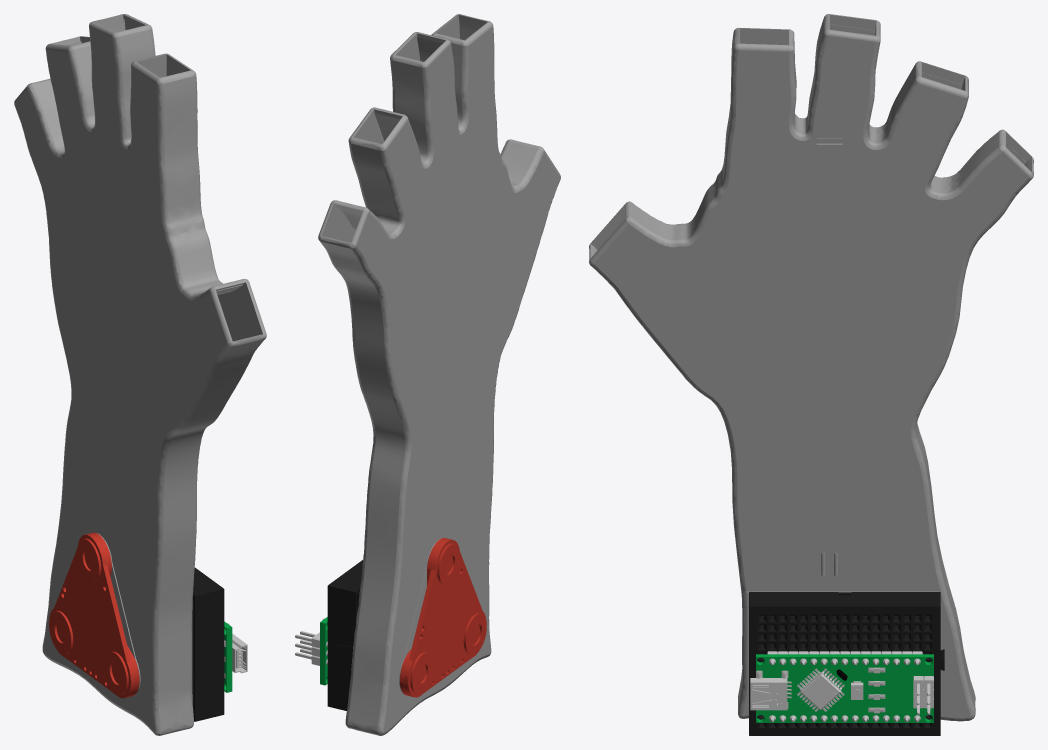
The model's file is carpalsense_arduino.glb.
3 renders of one model, left to right at view 1: azimuth 30°, elevation 25°; view 2: azimuth 150°, elevation 25°; view 3: azimuth 270°, elevation 25°, orthographic. The views are drawn at different scales.
Visible parts, largest first — view 1: empty_2, empty_267, empty_265, empty_270, empty_264; view 2: empty_2, empty_267, empty_265, empty_270, empty_264; view 3: empty_2, empty_265, empty_266, empty_264, empty_70, empty_37.
Part boxes in pixels (x1,y1,x2,y2): empty_2: (14, 14, 266, 735); empty_267: (49, 532, 139, 698); empty_265: (192, 567, 224, 721); empty_270: (97, 533, 140, 695); empty_264: (224, 621, 232, 692); empty_2: (318, 14, 560, 735); empty_267: (400, 538, 486, 697); empty_265: (327, 560, 362, 710); empty_270: (399, 538, 441, 692); empty_264: (320, 617, 327, 685); empty_2: (589, 14, 1033, 721); empty_265: (749, 592, 944, 735); empty_266: (816, 143, 842, 575); empty_264: (756, 654, 933, 722); empty_70: (750, 678, 787, 710); empty_37: (800, 672, 840, 709).
Size of the model in its own units: 36.11 by 187 by 109.
